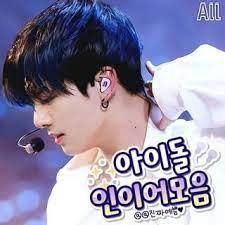earphone: (95, 75, 110, 93)
